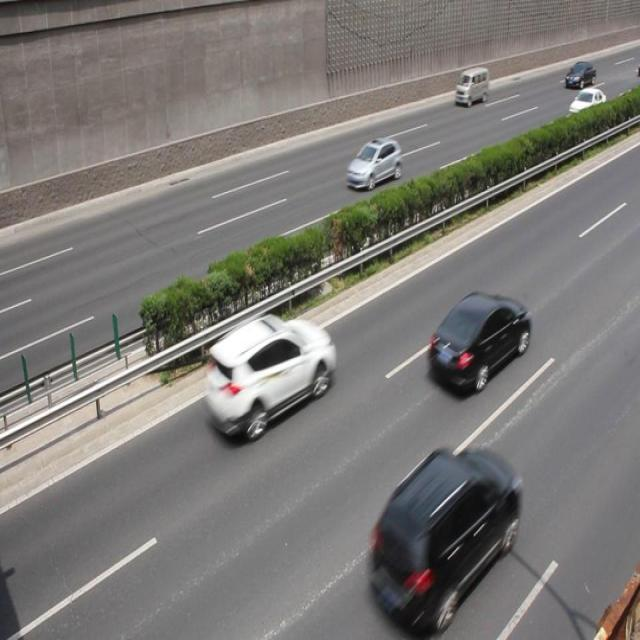car: (363, 450, 521, 614), (203, 312, 335, 444), (428, 291, 530, 394), (345, 137, 402, 190), (566, 86, 605, 125), (563, 60, 594, 88)
truck: (453, 67, 488, 104)
